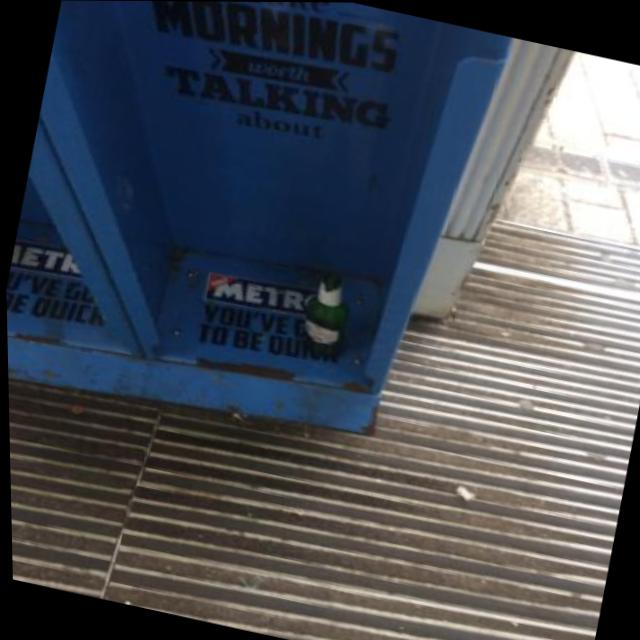glass: (295, 266, 360, 362)
